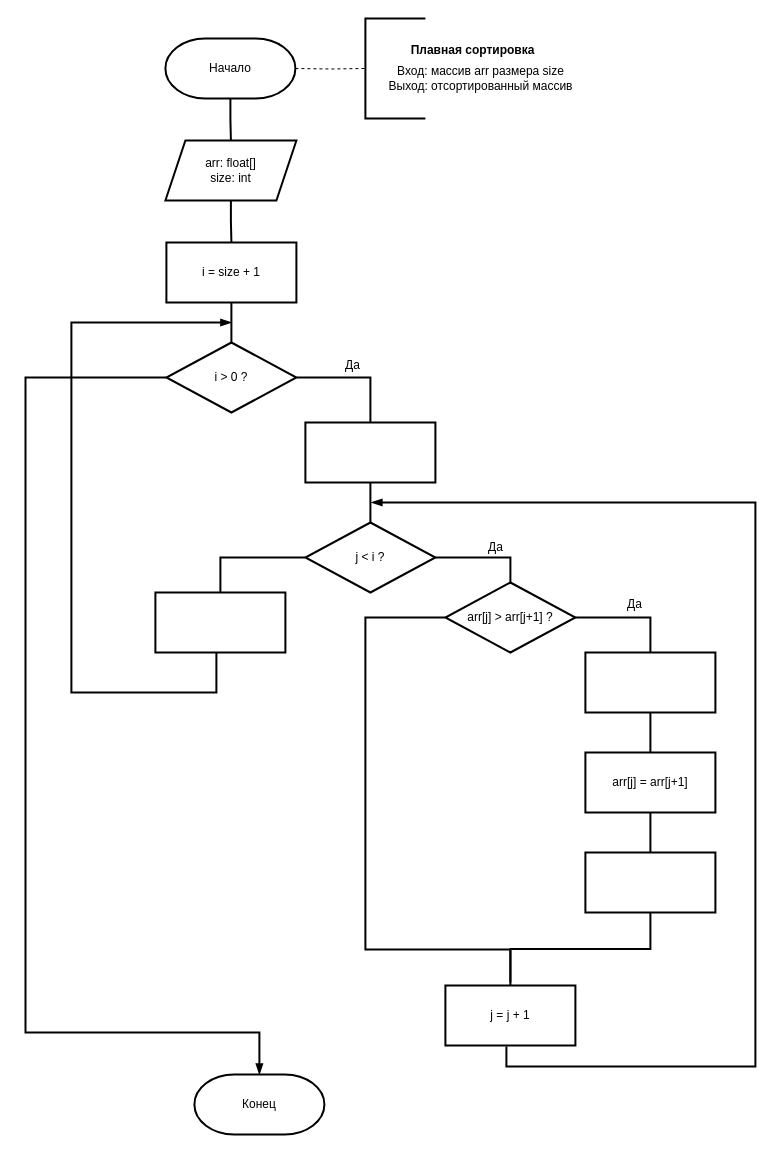
Image size: 781x1152. Some labels were removed from this diagram. Here are the shapes that lost their labels. From the top down, the centre of each, then its label:
(370,452): j = 0
(220,622): i = i - 1
(650,682): tmp = arr[j]
(650,882): arr[j+1] = tmp
